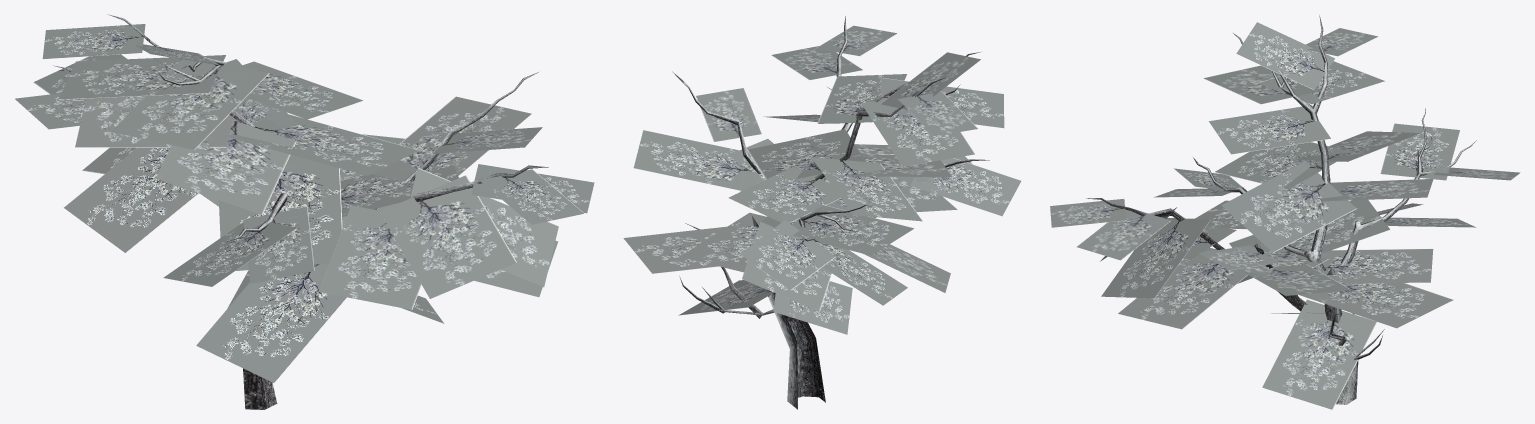
The model's file is S_Tree_White017_1.FBX.
3 renders of one model, left to right at view 1: azimuth 30°, elevation 25°; view 2: azimuth 150°, elevation 25°; view 3: azimuth 270°, elevation 25°, orthographic. The views are drawn at different scales.
Visible parts, largest first — view 1: S_Tree_White017_1; view 2: S_Tree_White017_1; view 3: S_Tree_White017_1.
Part boxes in pixels (box(x1,y1,x2,y2)): S_Tree_White017_1: box(15, 14, 594, 409); S_Tree_White017_1: box(623, 16, 1021, 409); S_Tree_White017_1: box(1050, 15, 1520, 409).
Bounding box in the file's own units: 652 × 787 × 601.
